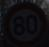Speed Limit -80-: (0, 0, 48, 46)
